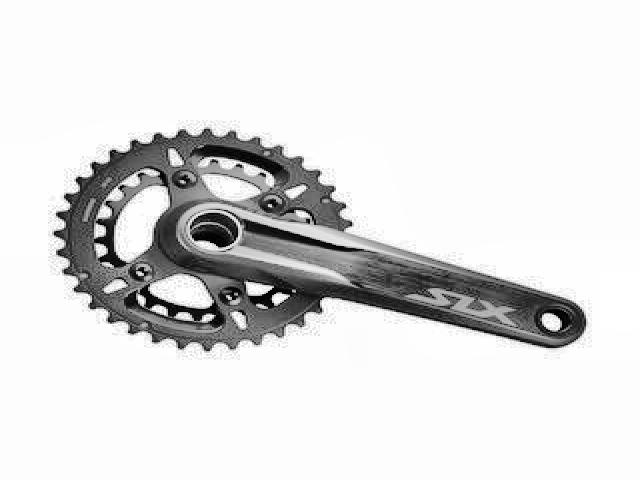cranks_set: (53, 125, 588, 352)
